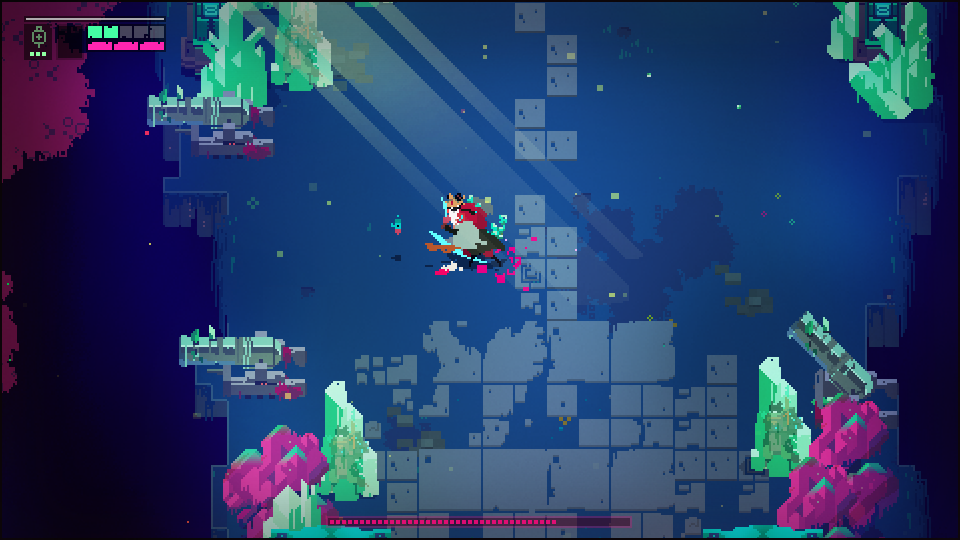hanged_man: (421, 189, 519, 274)
